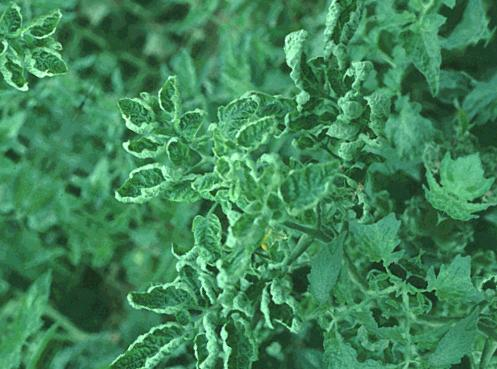Tomato leaf yellow virus: (264, 132, 357, 233), (102, 292, 206, 369), (175, 304, 290, 369), (210, 94, 292, 183), (111, 267, 193, 340), (207, 73, 281, 151), (159, 303, 244, 369), (103, 86, 182, 151), (111, 147, 177, 219), (145, 58, 206, 132)
